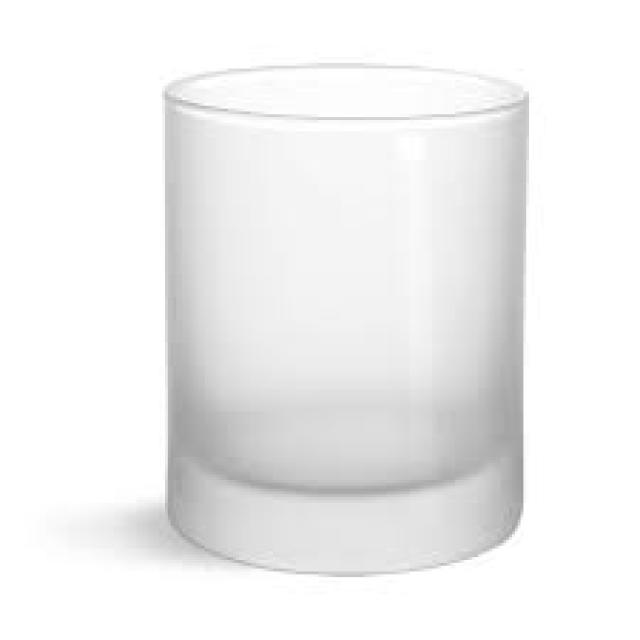glass: (162, 63, 521, 574)
